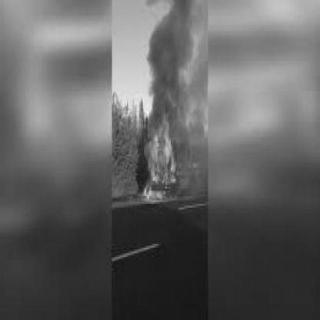Smoke: (139, 0, 209, 132)
